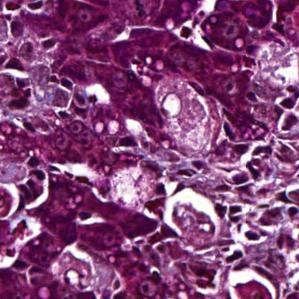ballooning: (105, 164, 162, 214)
